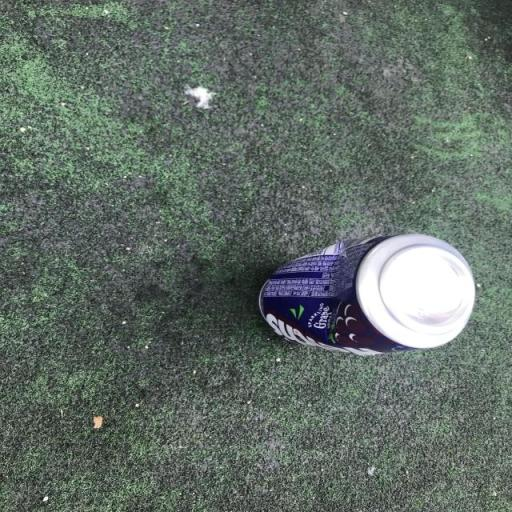metal: (221, 213, 498, 367)
